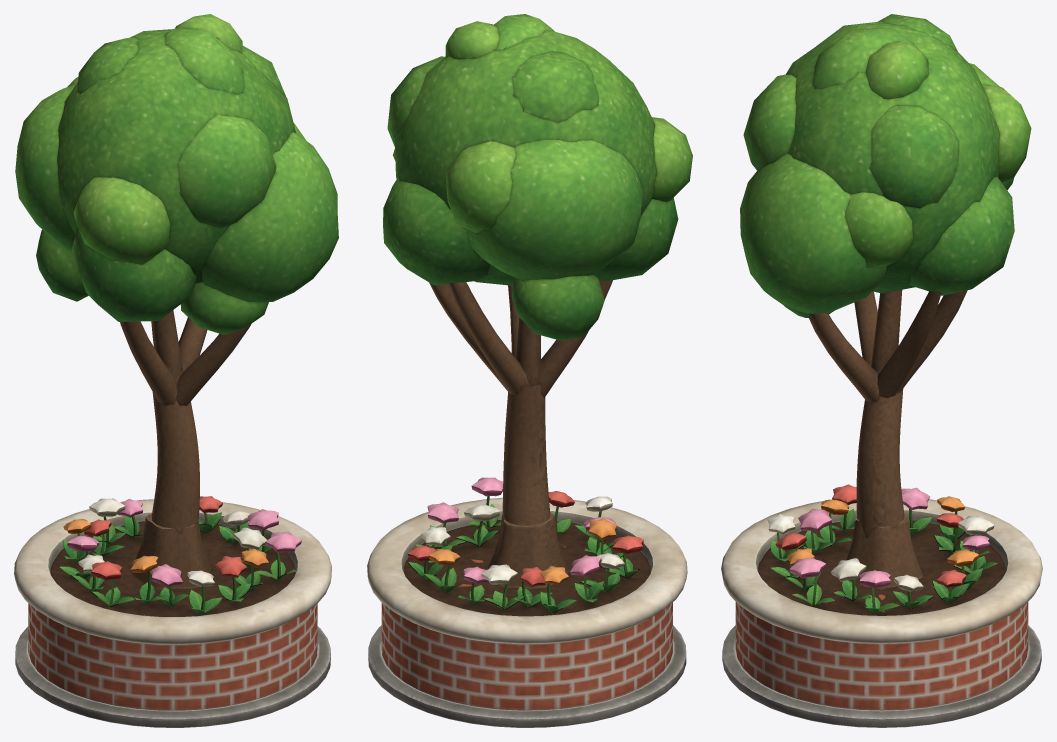
Rendered from tree-planter.fbx.
3 renders of one model, left to right at view 1: azimuth 30°, elevation 25°; view 2: azimuth 150°, elevation 25°; view 3: azimuth 270°, elevation 25°, orthographic.
Parts seen in each view (by area): view 1: Anim Sway, Body; view 2: Anim Sway, Body; view 3: Anim Sway, Body.
Boxes of the visible parts, x1,y1,x2,y2 form: Anim Sway: (15,14,338,405); Body: (14,381,331,727); Anim Sway: (383,14,692,398); Body: (367,383,687,727); Anim Sway: (740,14,1031,402); Body: (721,388,1042,727).
Size of the model in its own units: 1.44 by 3.14 by 1.44.
